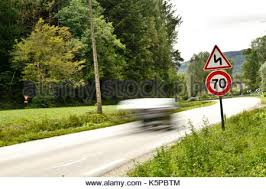Speed_limit_70km: (205, 71, 232, 95)
